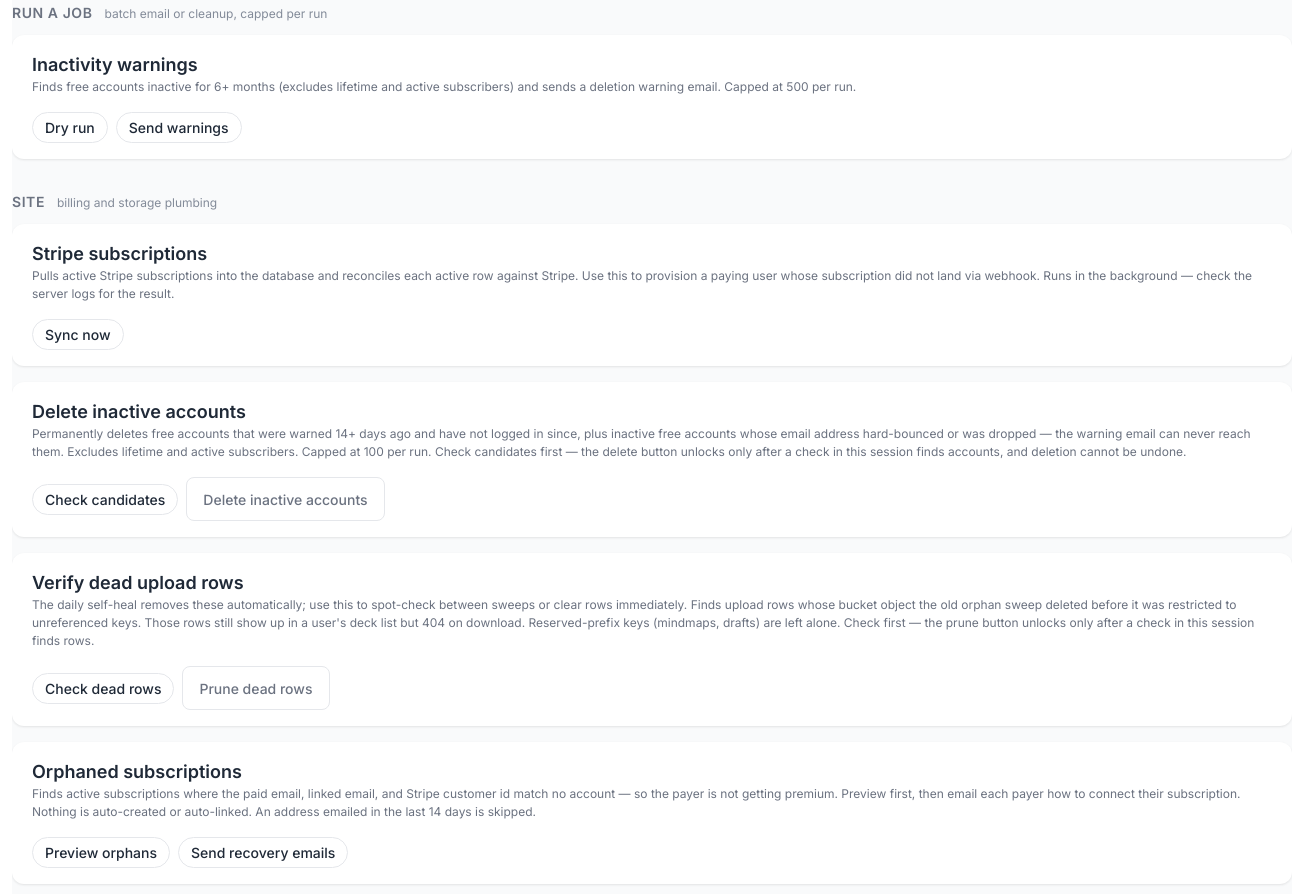
CommandsTab — prune dead upload rows › keeps the prune button locked until a check finds dead rows, then confirms with the count
(page scrolled)
Expected: the button "Prune dead rows" is disabled, 182,666 -> 330,710
Click the button "Check dead rows" at (103, 688), box 32,672 -> 174,704
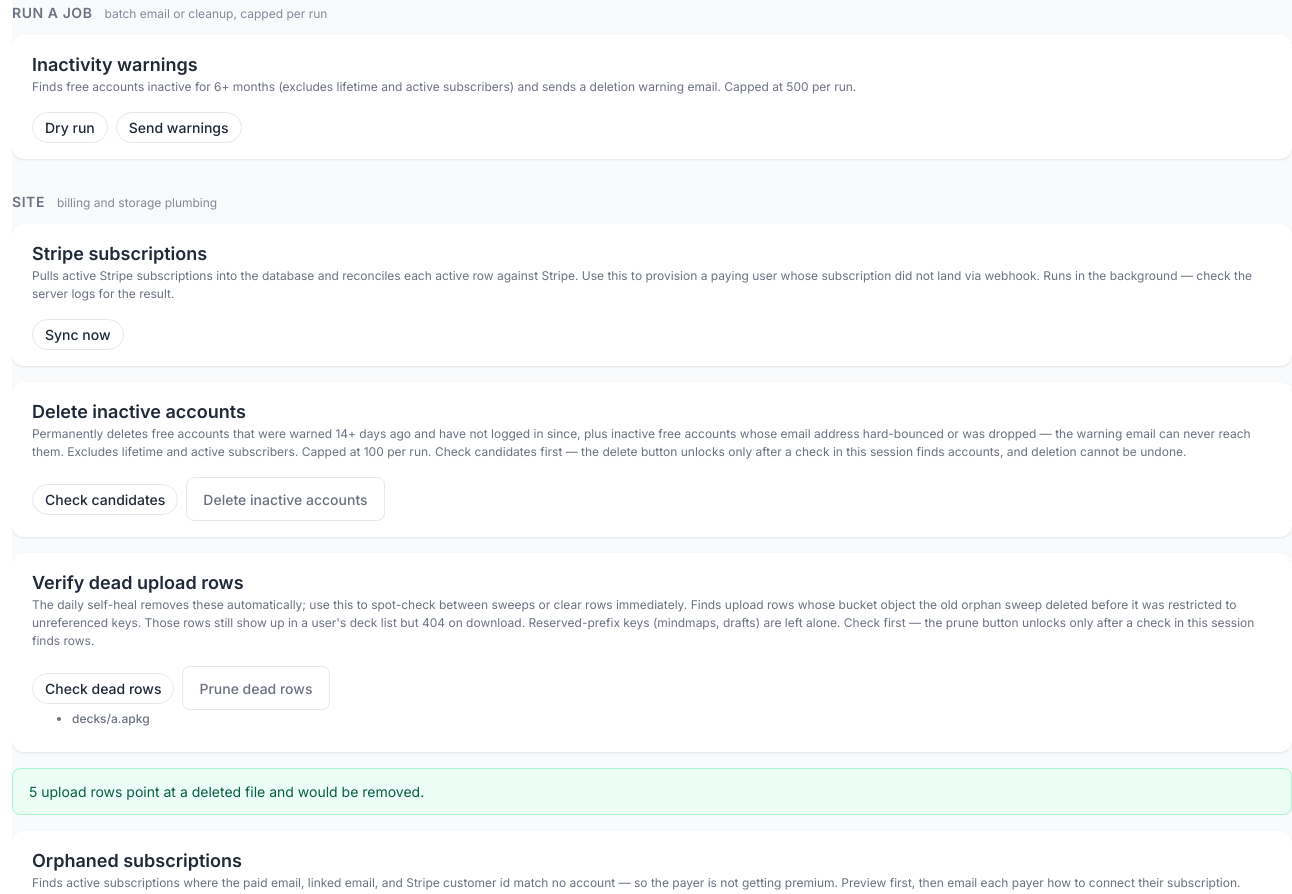
Result: the text "5 upload rows point at a deleted file and would be removed." is shown at 12,768 -> 1291,815
Click the button "Prune dead rows" at (256, 688), box 182,666 -> 330,710
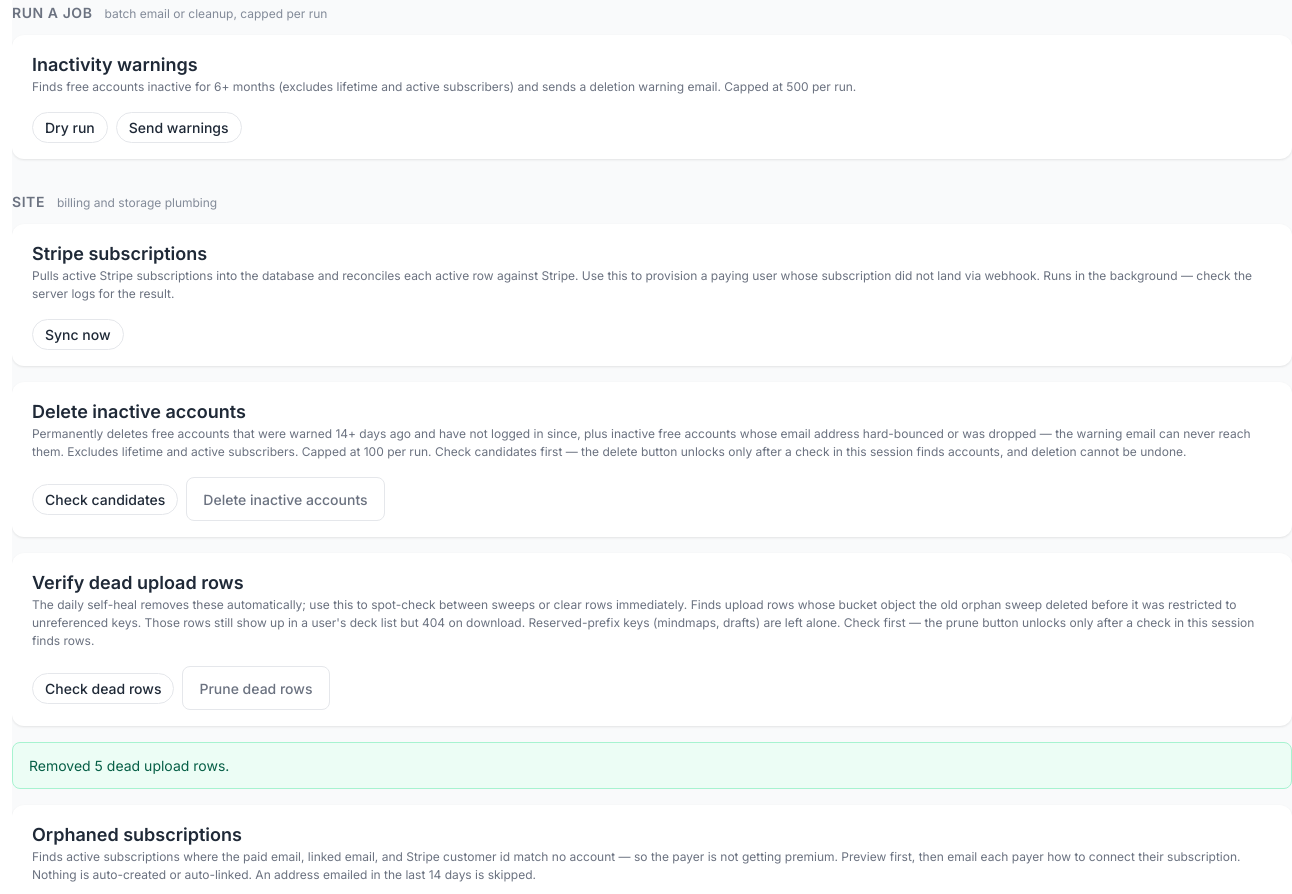
Result: the text "Removed 5 dead upload rows." is shown at 12,742 -> 1291,789
